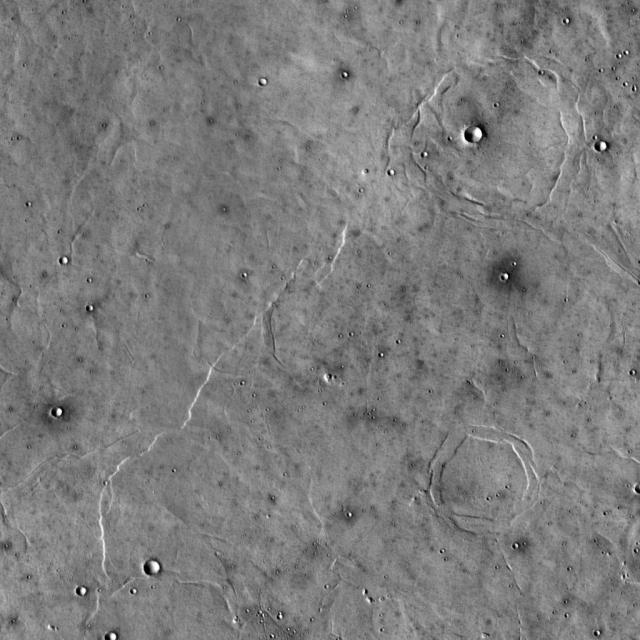crater: (406, 59, 574, 210), (430, 427, 544, 531), (464, 126, 482, 142), (144, 560, 160, 574), (594, 141, 606, 151), (50, 406, 61, 416), (500, 272, 510, 282), (74, 587, 84, 596), (59, 256, 68, 265), (258, 78, 267, 86), (106, 633, 116, 640), (86, 306, 94, 312), (388, 170, 396, 176)
